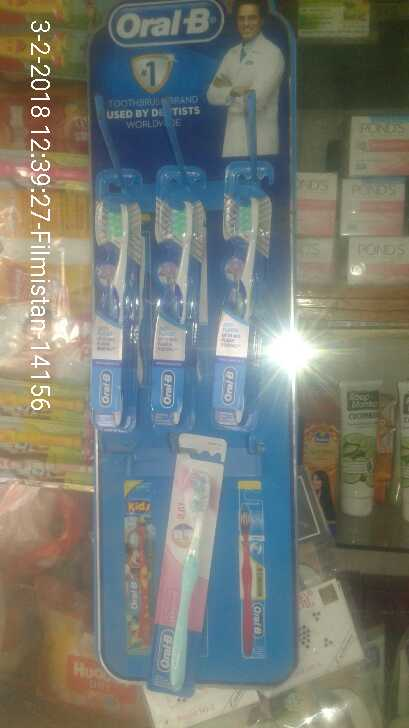oralb: (156, 458, 222, 698), (214, 192, 273, 426), (140, 196, 196, 430), (88, 198, 136, 428)
